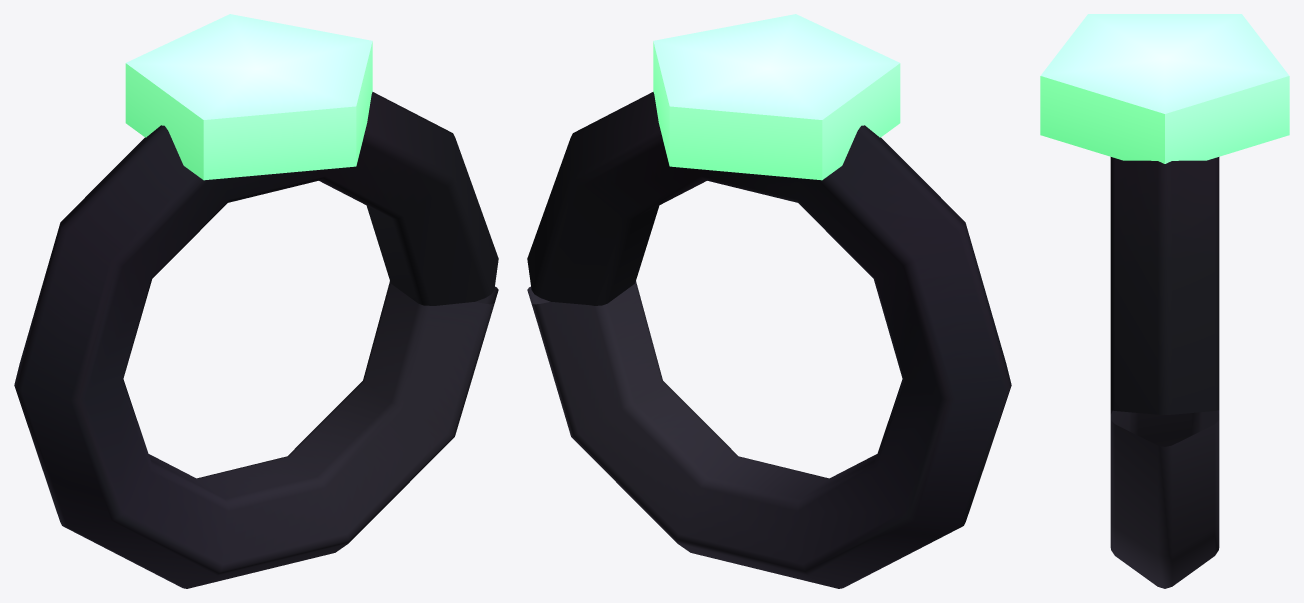
Rendered from witches_boon.glb.
3 views of the same model, side by side, from view 1: azimuth 30°, elevation 25°; view 2: azimuth 150°, elevation 25°; view 3: azimuth 270°, elevation 25° (orthographic).
Parts seen in each view (by area): view 1: witches_boon, witches_boon_glow; view 2: witches_boon, witches_boon_glow; view 3: witches_boon, witches_boon_glow.
Part boxes in pixels (x1,y1,x2,y2): witches_boon: [14, 92, 498, 588]; witches_boon_glow: [125, 14, 372, 180]; witches_boon: [527, 92, 1011, 588]; witches_boon_glow: [653, 14, 900, 180]; witches_boon: [1110, 157, 1219, 588]; witches_boon_glow: [1040, 14, 1289, 163].
Size of the model in its own units: 0.5019 by 0.4999 by 0.2283.
